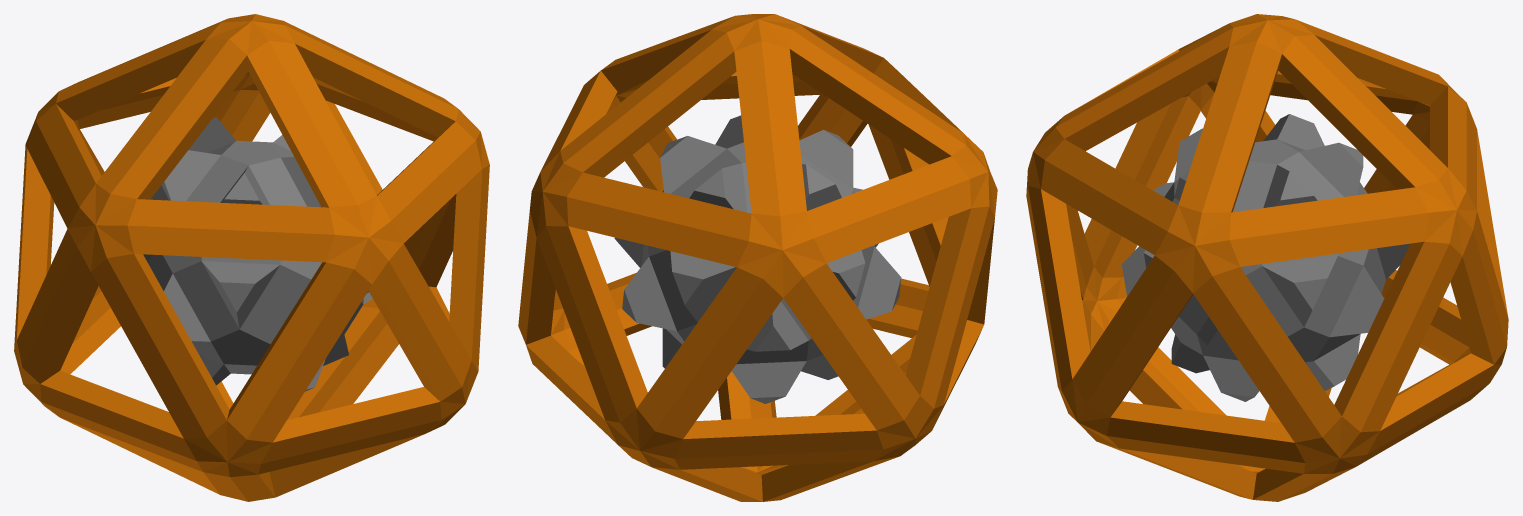
File: SphereToy.dae
3 renders of one model, left to right at view 1: azimuth 30°, elevation 25°; view 2: azimuth 150°, elevation 25°; view 3: azimuth 270°, elevation 25°, orthographic.
Parts seen in each view (by area): view 1: Mesh; view 2: Mesh; view 3: Mesh.
Part boxes in pixels (left/top/right/bottom): Mesh: left=14, top=14, right=489, bottom=501; Mesh: left=518, top=14, right=997, bottom=501; Mesh: left=1026, top=14, right=1508, bottom=501.
Bounding box in the file's own units: 0.332 × 0.3718 × 0.342.
